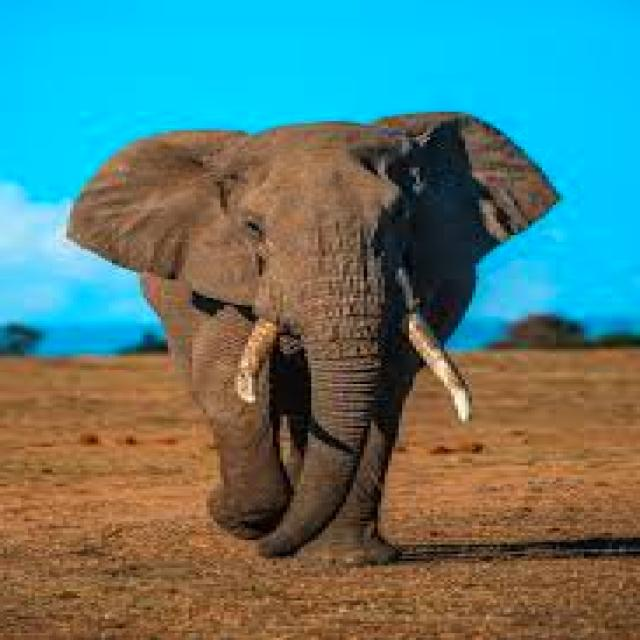elephant: (73, 112, 560, 561)
